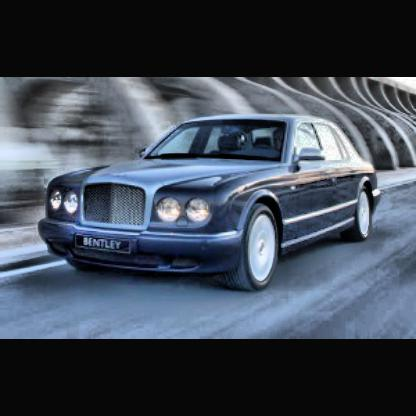Bentley Arnage Sedan 2009: (40, 115, 385, 292)
